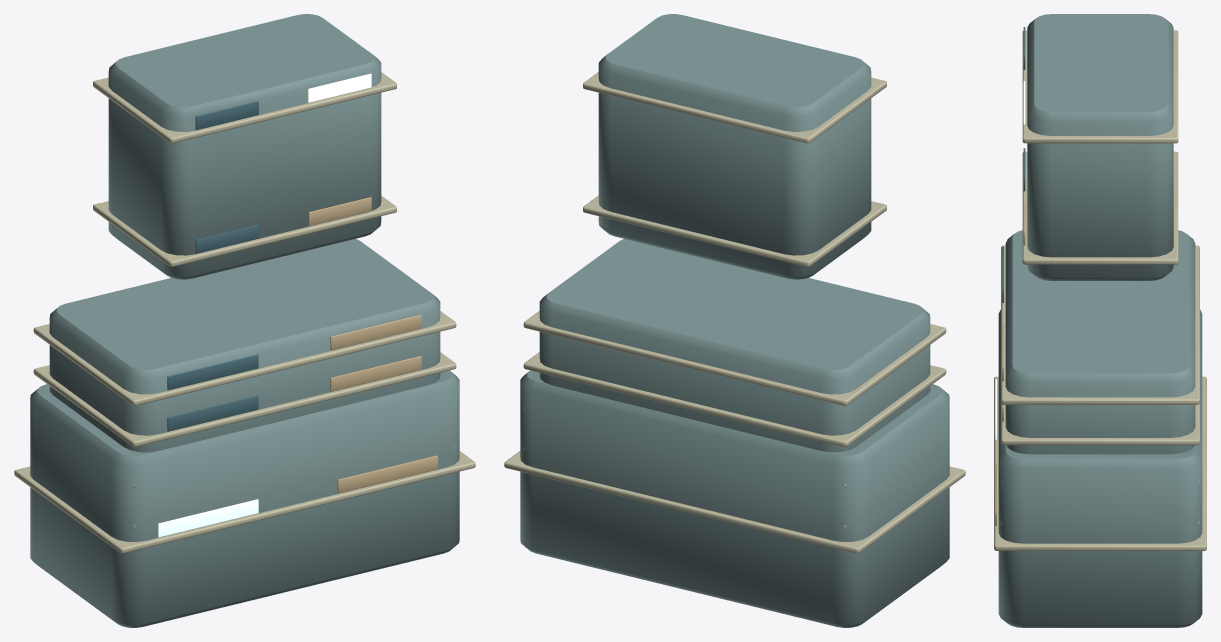
Rendered from luxury_skyline_2.glb.
3 renders of one model, left to right at view 1: azimuth 30°, elevation 25°; view 2: azimuth 150°, elevation 25°; view 3: azimuth 270°, elevation 25°, orthographic.
Visible parts, largest first — view 1: LuxurySkyline2; view 2: LuxurySkyline2; view 3: LuxurySkyline2.
Part boxes in pixels (x1,y1,x2,y2): LuxurySkyline2: (14,14,475,627); LuxurySkyline2: (504,14,965,627); LuxurySkyline2: (994,14,1206,627).
Size of the model in its own units: 5.17 by 6.87 by 2.73.
